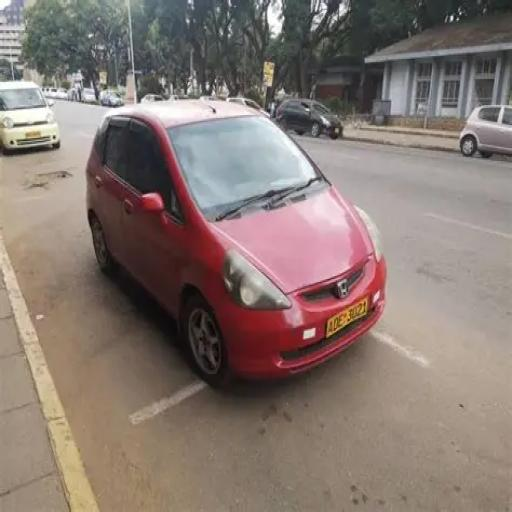number-plates: (324, 296, 368, 334)
